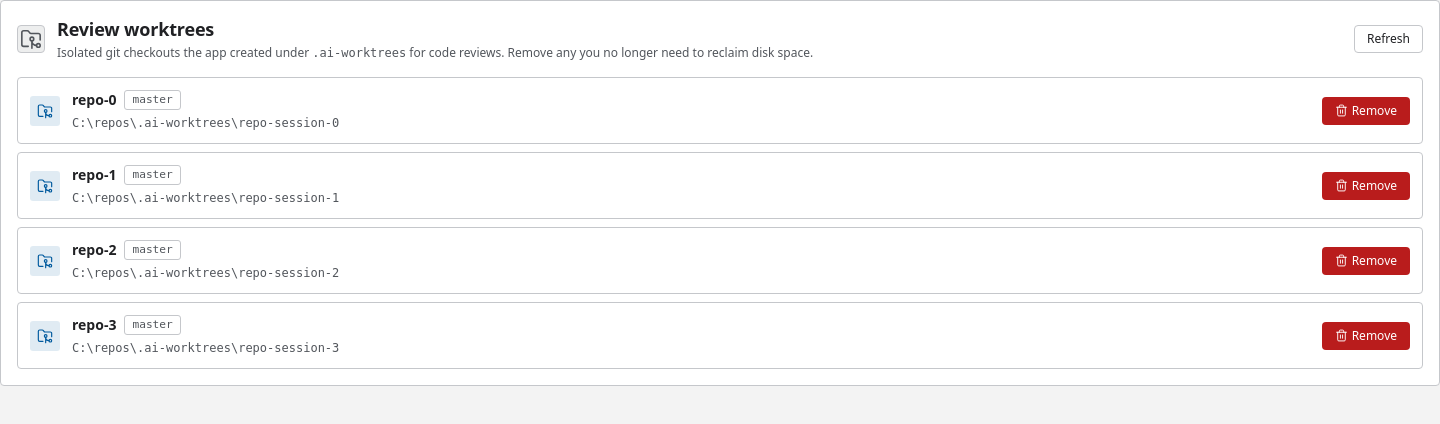
Test case: starts a second removal before the first finishes, keeps other rows usable, and hides stale removed rows
The width and height of the screenshot is (1440, 424).
Expected: the text "repo-0" is shown, [72,92,116,108]
Click the button "Remove" in the row of "repo-0" at (1366, 110), box [1322,96,1410,124]
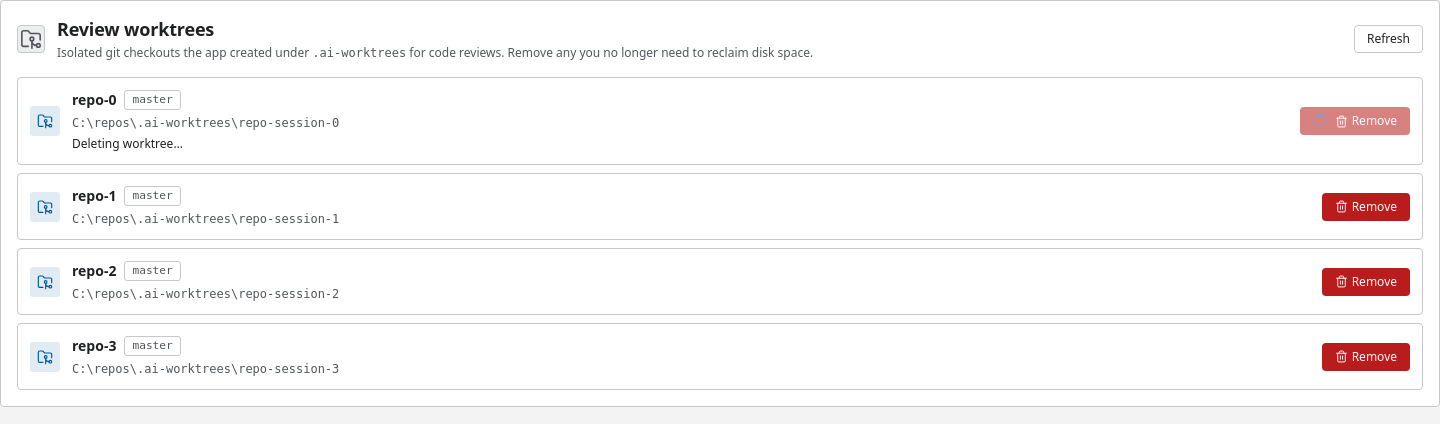
Click the button "Remove" in the row of "repo-1" at (1366, 206), box [1322,192,1410,220]
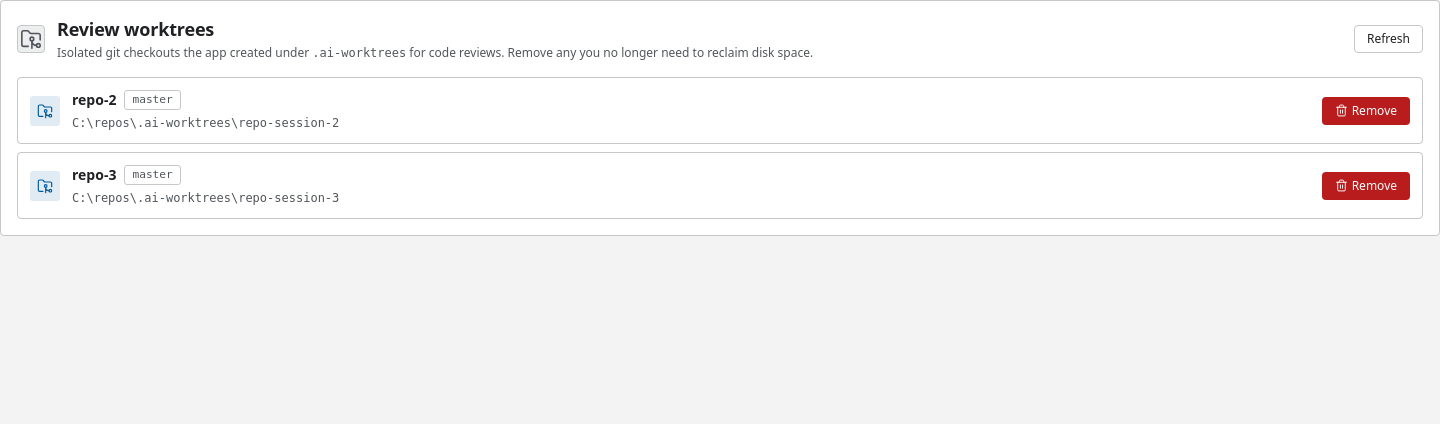
Expected: the button "Refresh" is enabled, [1354,25,1423,53]
Expected: the text "repo-1" is gone
